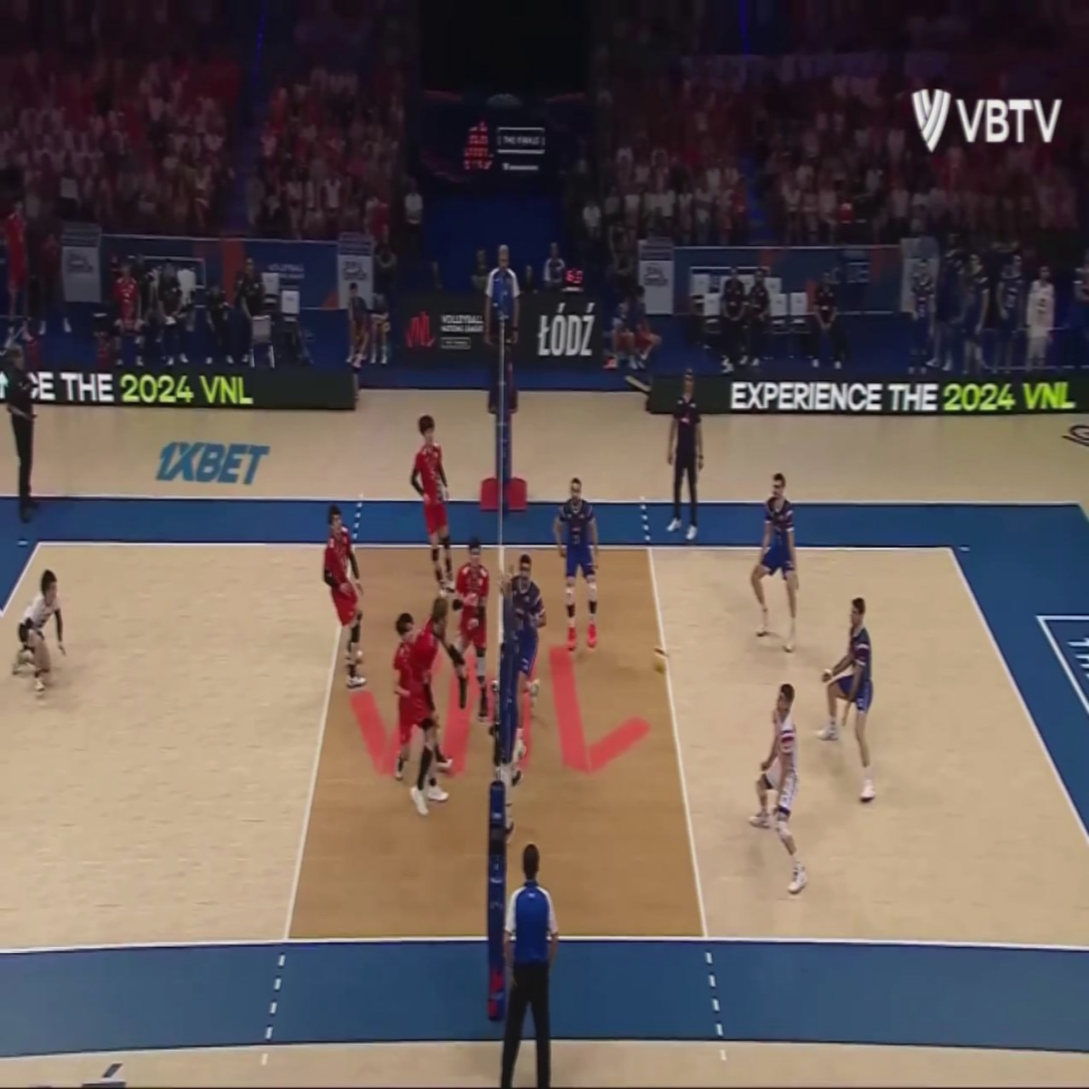ball: (651, 646, 667, 671)
